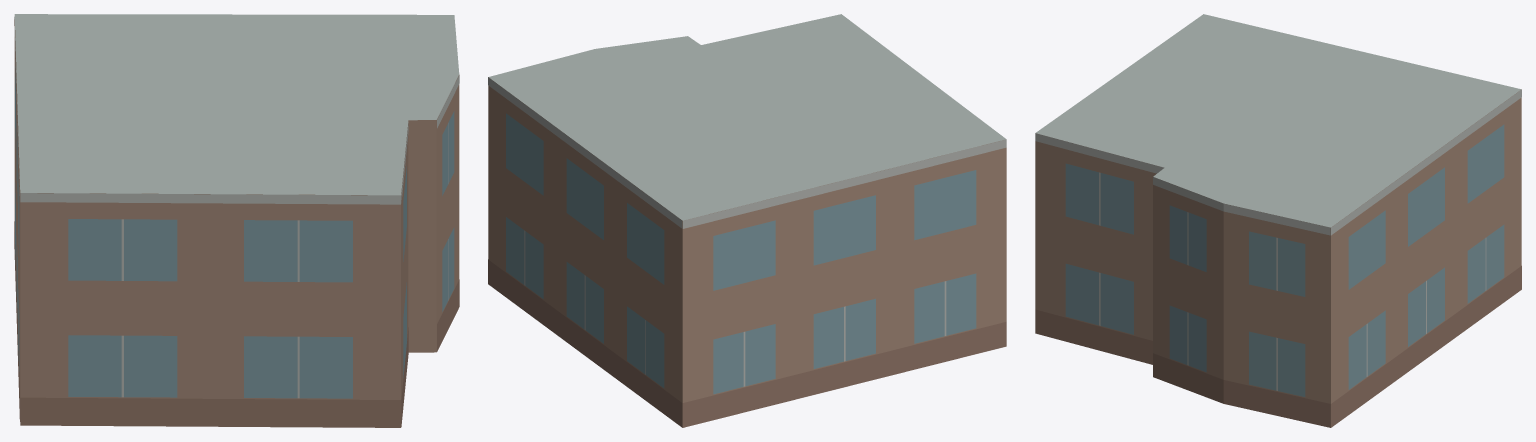
File: survey-upis-32691819.glb
3 renders of one model, left to right at view 1: azimuth 30°, elevation 25°; view 2: azimuth 150°, elevation 25°; view 3: azimuth 270°, elevation 25°, orthographic. The views are drawn at different scales.
Parts seen in each view (by area): view 1: survey-upis-32691819.tmp; view 2: survey-upis-32691819.tmp; view 3: survey-upis-32691819.tmp.
Part boxes in pixels (x1=…): survey-upis-32691819.tmp: x1=14, y1=14, x2=459, y2=427; survey-upis-32691819.tmp: x1=488, y1=14, x2=1006, y2=427; survey-upis-32691819.tmp: x1=1035, y1=14, x2=1521, y2=427.
Bounding box in the file's own units: 13.96 × 6.1 × 13.44.
